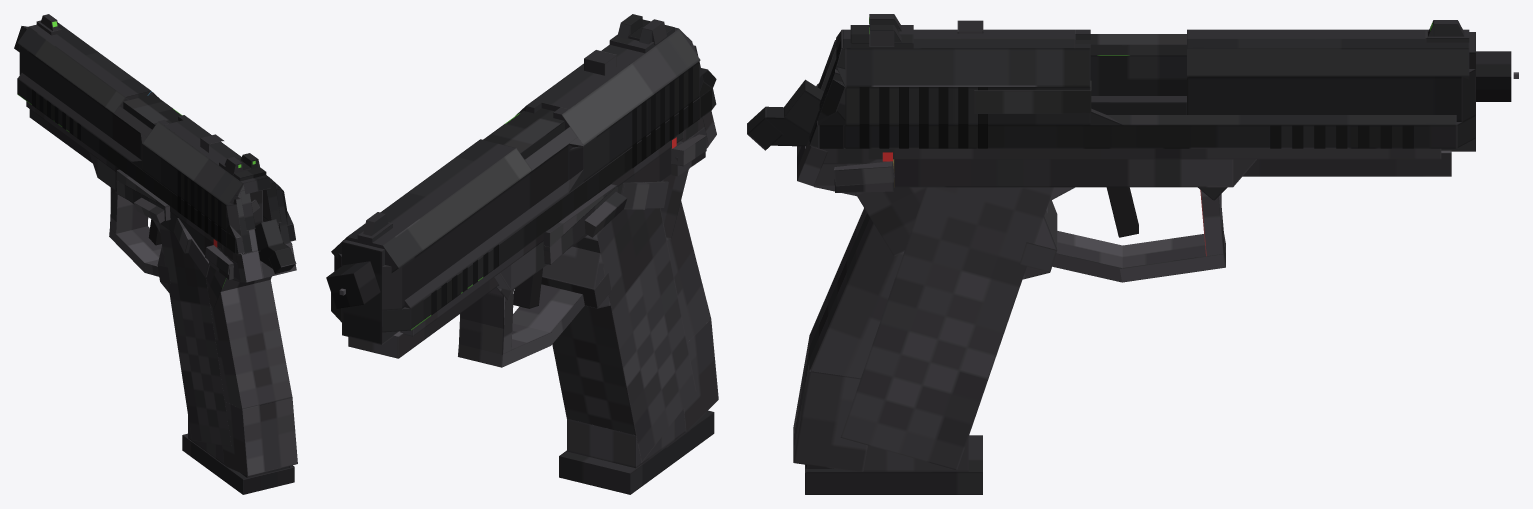
3 views of the same model, side by side, from view 1: azimuth 30°, elevation 25°; view 2: azimuth 150°, elevation 25°; view 3: azimuth 270°, elevation 25° (orthographic). The views are drawn at different scales.
Parts seen in each view (by area): view 1: gun_43, slide_65, magazine_3, hammer_4; view 2: gun_43, slide_65, magazine_3, _cb_scope_1; view 3: gun_43, slide_65, magazine_3, hammer_4.
Part boxes in pixels (box(x1,y1,x2,y2)): gun_43: box(14, 26, 297, 475); slide_65: box(17, 14, 295, 254); magazine_3: box(182, 433, 294, 494); hammer_4: box(255, 219, 296, 273); gun_43: box(326, 108, 718, 468); slide_65: box(331, 14, 716, 344); magazine_3: box(559, 410, 714, 494); _cb_scope_1: box(584, 50, 616, 75); gun_43: box(793, 34, 1511, 471); slide_65: box(809, 14, 1475, 151); magazine_3: box(805, 435, 982, 494); hammer_4: box(747, 79, 823, 150).
Size of the model in its own units: 0.2942 by 1.22 by 1.88.
